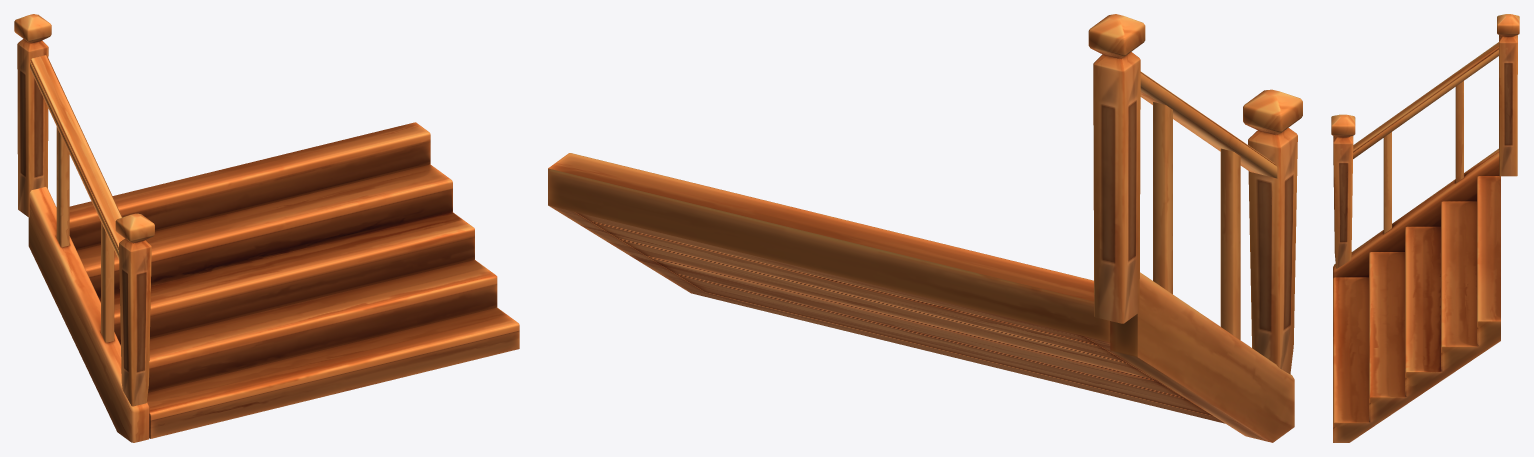
The model's file is PropStairs01TypeC1.FBX.
3 renders of one model, left to right at view 1: azimuth 30°, elevation 25°; view 2: azimuth 150°, elevation 25°; view 3: azimuth 270°, elevation 25°, orthographic. The views are drawn at different scales.
Parts seen in each view (by area): view 1: PropStairs01TypeC1; view 2: PropStairs01TypeC1; view 3: PropStairs01TypeC1.
Boxes of the visible parts, x1=… form: PropStairs01TypeC1: x1=14, y1=14, x2=519, y2=442; PropStairs01TypeC1: x1=548, y1=14, x2=1302, y2=442; PropStairs01TypeC1: x1=1331, y1=14, x2=1519, y2=442.
Size of what is drawn, in the model's own units: 2.17 by 1.83 by 1.12.
